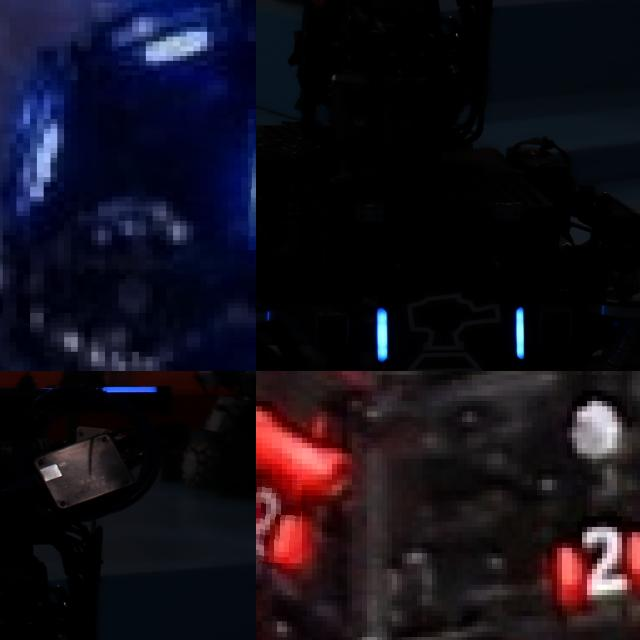Bs: (369, 291, 528, 371)
R2: (552, 521, 640, 605), (256, 479, 302, 563)
